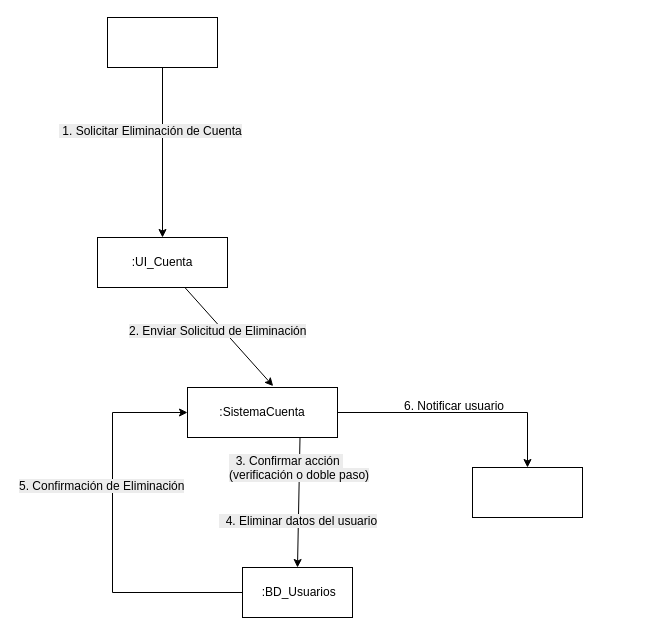
Some shapes in this 668 by 635 pixel diagram are drawn without their labels. The shapes that lost their labels are listed below. From the top down, each one's centre as x and y in pixels, then its label:
[162,42]: :Administrador
[527,492]: :Notificación
